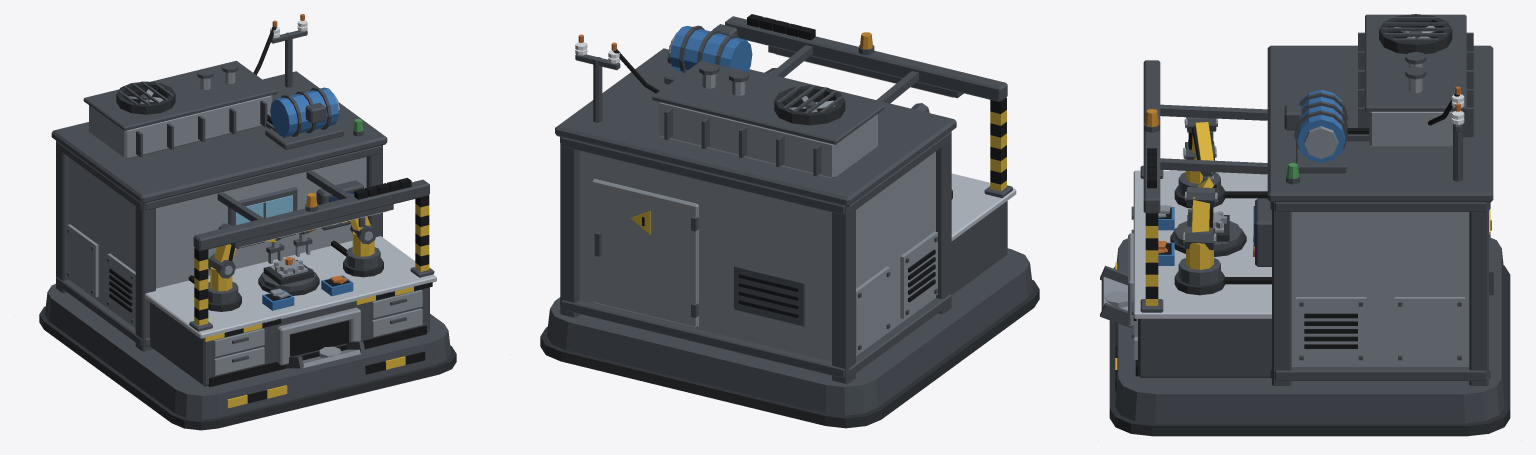
Rendered from assembleur_t2.glb.
3 renders of one model, left to right at view 1: azimuth 30°, elevation 25°; view 2: azimuth 150°, elevation 25°; view 3: azimuth 270°, elevation 25°, orthographic. The views are drawn at different scales.
Parts seen in each view (by area): view 1: pieces_acier_sombre.004, socle.002, caisson.002, caisson_toit.002, etabli_plateau.002, pieces_acier.004, pieces_noir.004, etabli.002, socle_plinthe.002, transformateur_toit.002, transformateur.002, pieces_jaune.002 (+15 smaller); view 2: pieces_acier_sombre.004, caisson.002, socle.002, caisson_toit.002, armoire_porte.002, socle_plinthe.002, transformateur_toit.002, transformateur.002, pieces_acier.004, pieces_noir.004, etabli.002, moteur.002 (+3 smaller); view 3: pieces_acier_sombre.004, socle.002, caisson_toit.002, caisson.002, etabli_plateau.002, pieces_acier.004, etabli.002, socle_plinthe.002, transformateur_toit.002, pieces_noir.004, transformateur.002, bras2_acier_sombre.002 (+13 smaller).
Part boxes in pixels (x1,y1,x2,y2): pieces_acier_sombre.004: (56, 30, 434, 368); socle.002: (45, 284, 450, 419); caisson.002: (69, 157, 366, 327); caisson_toit.002: (51, 71, 387, 203); etabli_plateau.002: (145, 236, 436, 338); pieces_acier.004: (67, 72, 422, 375); pieces_noir.004: (109, 26, 432, 403); etabli.002: (150, 287, 429, 386); socle_plinthe.002: (39, 306, 456, 430); transformateur_toit.002: (83, 60, 277, 130); transformateur.002: (89, 95, 272, 159); pieces_jaune.002: (194, 204, 429, 408); pieces_acier_sombre.004: (560, 16, 1012, 383); caisson.002: (579, 151, 935, 361); socle.002: (546, 248, 1033, 415); caisson_toit.002: (555, 48, 956, 206); armoire_porte.002: (592, 178, 698, 327); socle_plinthe.002: (540, 280, 1039, 428); transformateur_toit.002: (652, 60, 884, 144); transformateur.002: (658, 102, 877, 178); pieces_acier.004: (702, 74, 937, 353); pieces_noir.004: (613, 14, 1006, 317); etabli.002: (951, 201, 1007, 294); moteur.002: (670, 26, 752, 71); pieces_acier_sombre.004: (1100, 17, 1493, 385); socle.002: (1115, 238, 1504, 423); caisson_toit.002: (1267, 45, 1493, 202); caisson.002: (1291, 212, 1469, 381); etabli_plateau.002: (1133, 170, 1271, 318); pieces_acier.004: (1101, 63, 1464, 362); etabli.002: (1138, 319, 1271, 377); socle_plinthe.002: (1109, 265, 1510, 436); transformateur_toit.002: (1365, 14, 1466, 111); pieces_noir.004: (1115, 26, 1491, 391); transformateur.002: (1369, 111, 1452, 147); bras2_acier_sombre.002: (1178, 178, 1220, 285).
Size of the model in its own units: 1.5 by 1.24 by 1.5.
